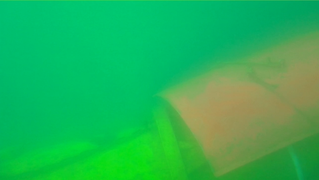leak: (157, 29, 319, 178)
pipe: (1, 103, 319, 180)
